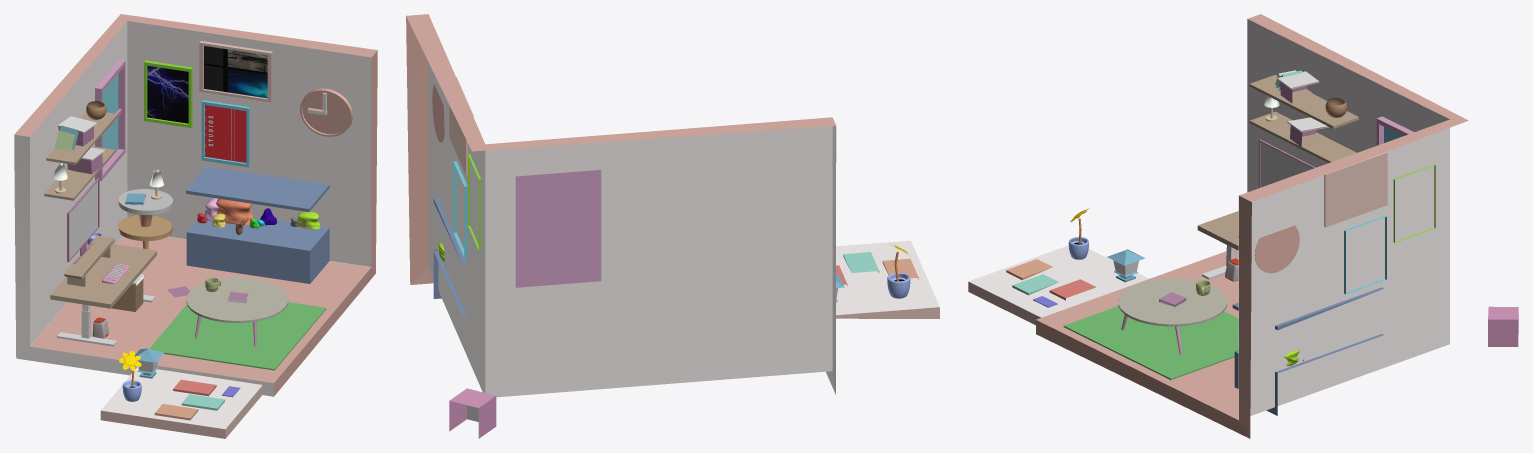
The model's file is mainHome2.glb.
3 views of the same model, side by side, from view 1: azimuth 30°, elevation 25°; view 2: azimuth 150°, elevation 25°; view 3: azimuth 270°, elevation 25° (orthographic). The views are drawn at different scales.
Visible parts, largest first — view 1: body, aquarium, shelve, Floor items, desks, Mini Floor, Table Stuff, clock, Computer, Lamp, floor3, floor2 (+2 smaller); view 2: body, Mini Floor, shelve, Cube, aquarium, floor2, clock, dirt; view 3: body, shelve, Floor items, Mini Floor, desks, clock, Computer, aquarium, Cube, Lamp, floor2, floor3.
Part boxes in pixels (<box>): body: <box>14,14,377,396</box>; aquarium: <box>186,166,329,283</box>; shelve: <box>44,41,272,200</box>; Floor items: <box>92,46,326,370</box>; desks: <box>50,214,288,346</box>; Mini Floor: <box>100,366,262,438</box>; Table Stuff: <box>87,169,248,303</box>; clock: <box>299,88,352,136</box>; Computer: <box>67,178,99,263</box>; Lamp: <box>134,348,164,378</box>; floor3: <box>154,404,198,420</box>; floor2: <box>181,394,224,410</box>; body: <box>406,14,836,397</box>; Mini Floor: <box>836,240,939,318</box>; shelve: <box>449,77,480,257</box>; Cube: <box>449,388,496,438</box>; aquarium: <box>433,198,466,316</box>; floor2: <box>843,252,879,272</box>; clock: <box>432,84,444,142</box>; dirt: <box>887,272,910,298</box>; body: <box>1036,14,1468,438</box>; shelve: <box>1249,70,1435,294</box>; Floor items: <box>1063,261,1238,379</box>; Mini Floor: <box>968,245,1149,325</box>; desks: <box>1118,211,1238,354</box>; clock: <box>1254,225,1299,273</box>; Computer: <box>1258,139,1315,187</box>; aquarium: <box>1232,287,1383,415</box>; Cube: <box>1488,306,1518,346</box>; Lamp: <box>1107,249,1145,282</box>; floor2: <box>1012,274,1058,295</box>; floor3: <box>1006,259,1052,280</box>.
Size of the model in its own units: 35.23 by 20.94 by 43.59.
Materials: 66 (3 with a texture image).
